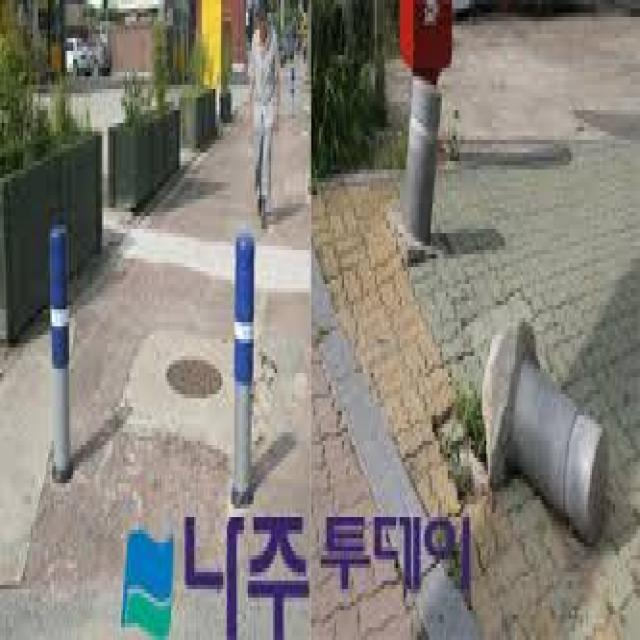bollard: (476, 284, 622, 552), (47, 217, 78, 491), (232, 232, 259, 513)
